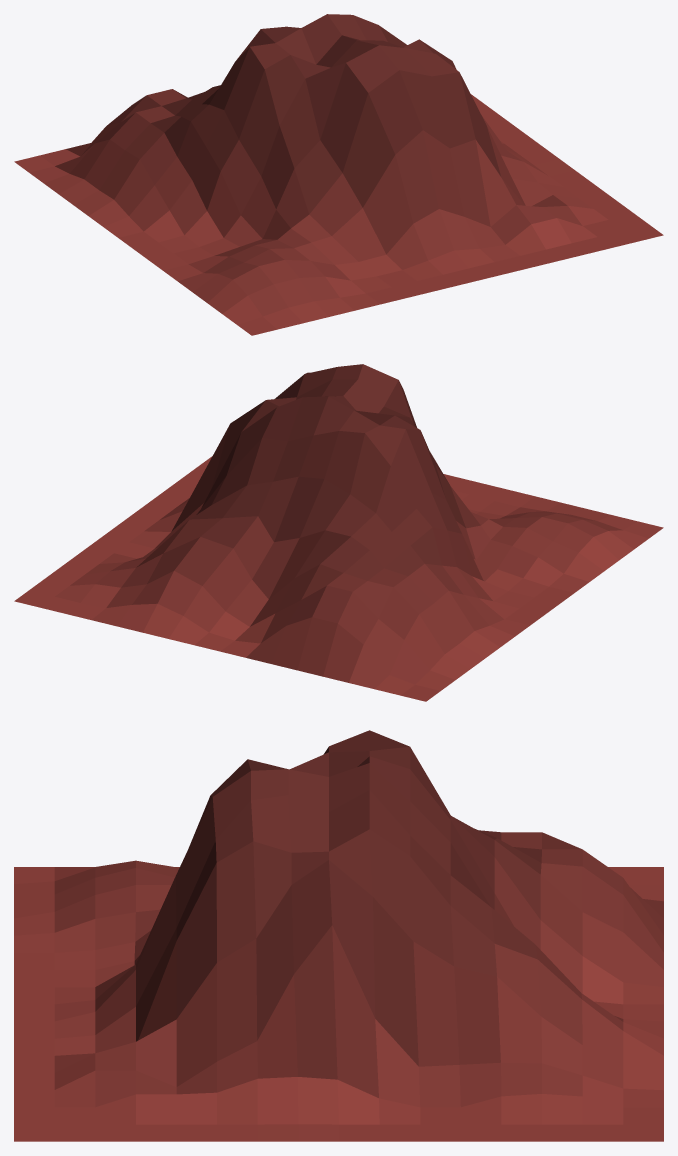
Rendered from Terrain_24_Red.fbx.
The picture shows the model from 3 angles, top to bottom: view 1: azimuth 30°, elevation 25°; view 2: azimuth 150°, elevation 25°; view 3: azimuth 270°, elevation 25°; orthographic projection. The views are drawn at different scales.
Parts seen in each view (by area): view 1: Terrain_24_Red; view 2: Terrain_24_Red; view 3: Terrain_24_Red.
Part boxes in pixels (x1,y1,x2,y2): Terrain_24_Red: (14, 14, 663, 335); Terrain_24_Red: (14, 364, 663, 701); Terrain_24_Red: (14, 730, 663, 1141).
Size of the model in its own units: 5000 by 2045 by 5000.
